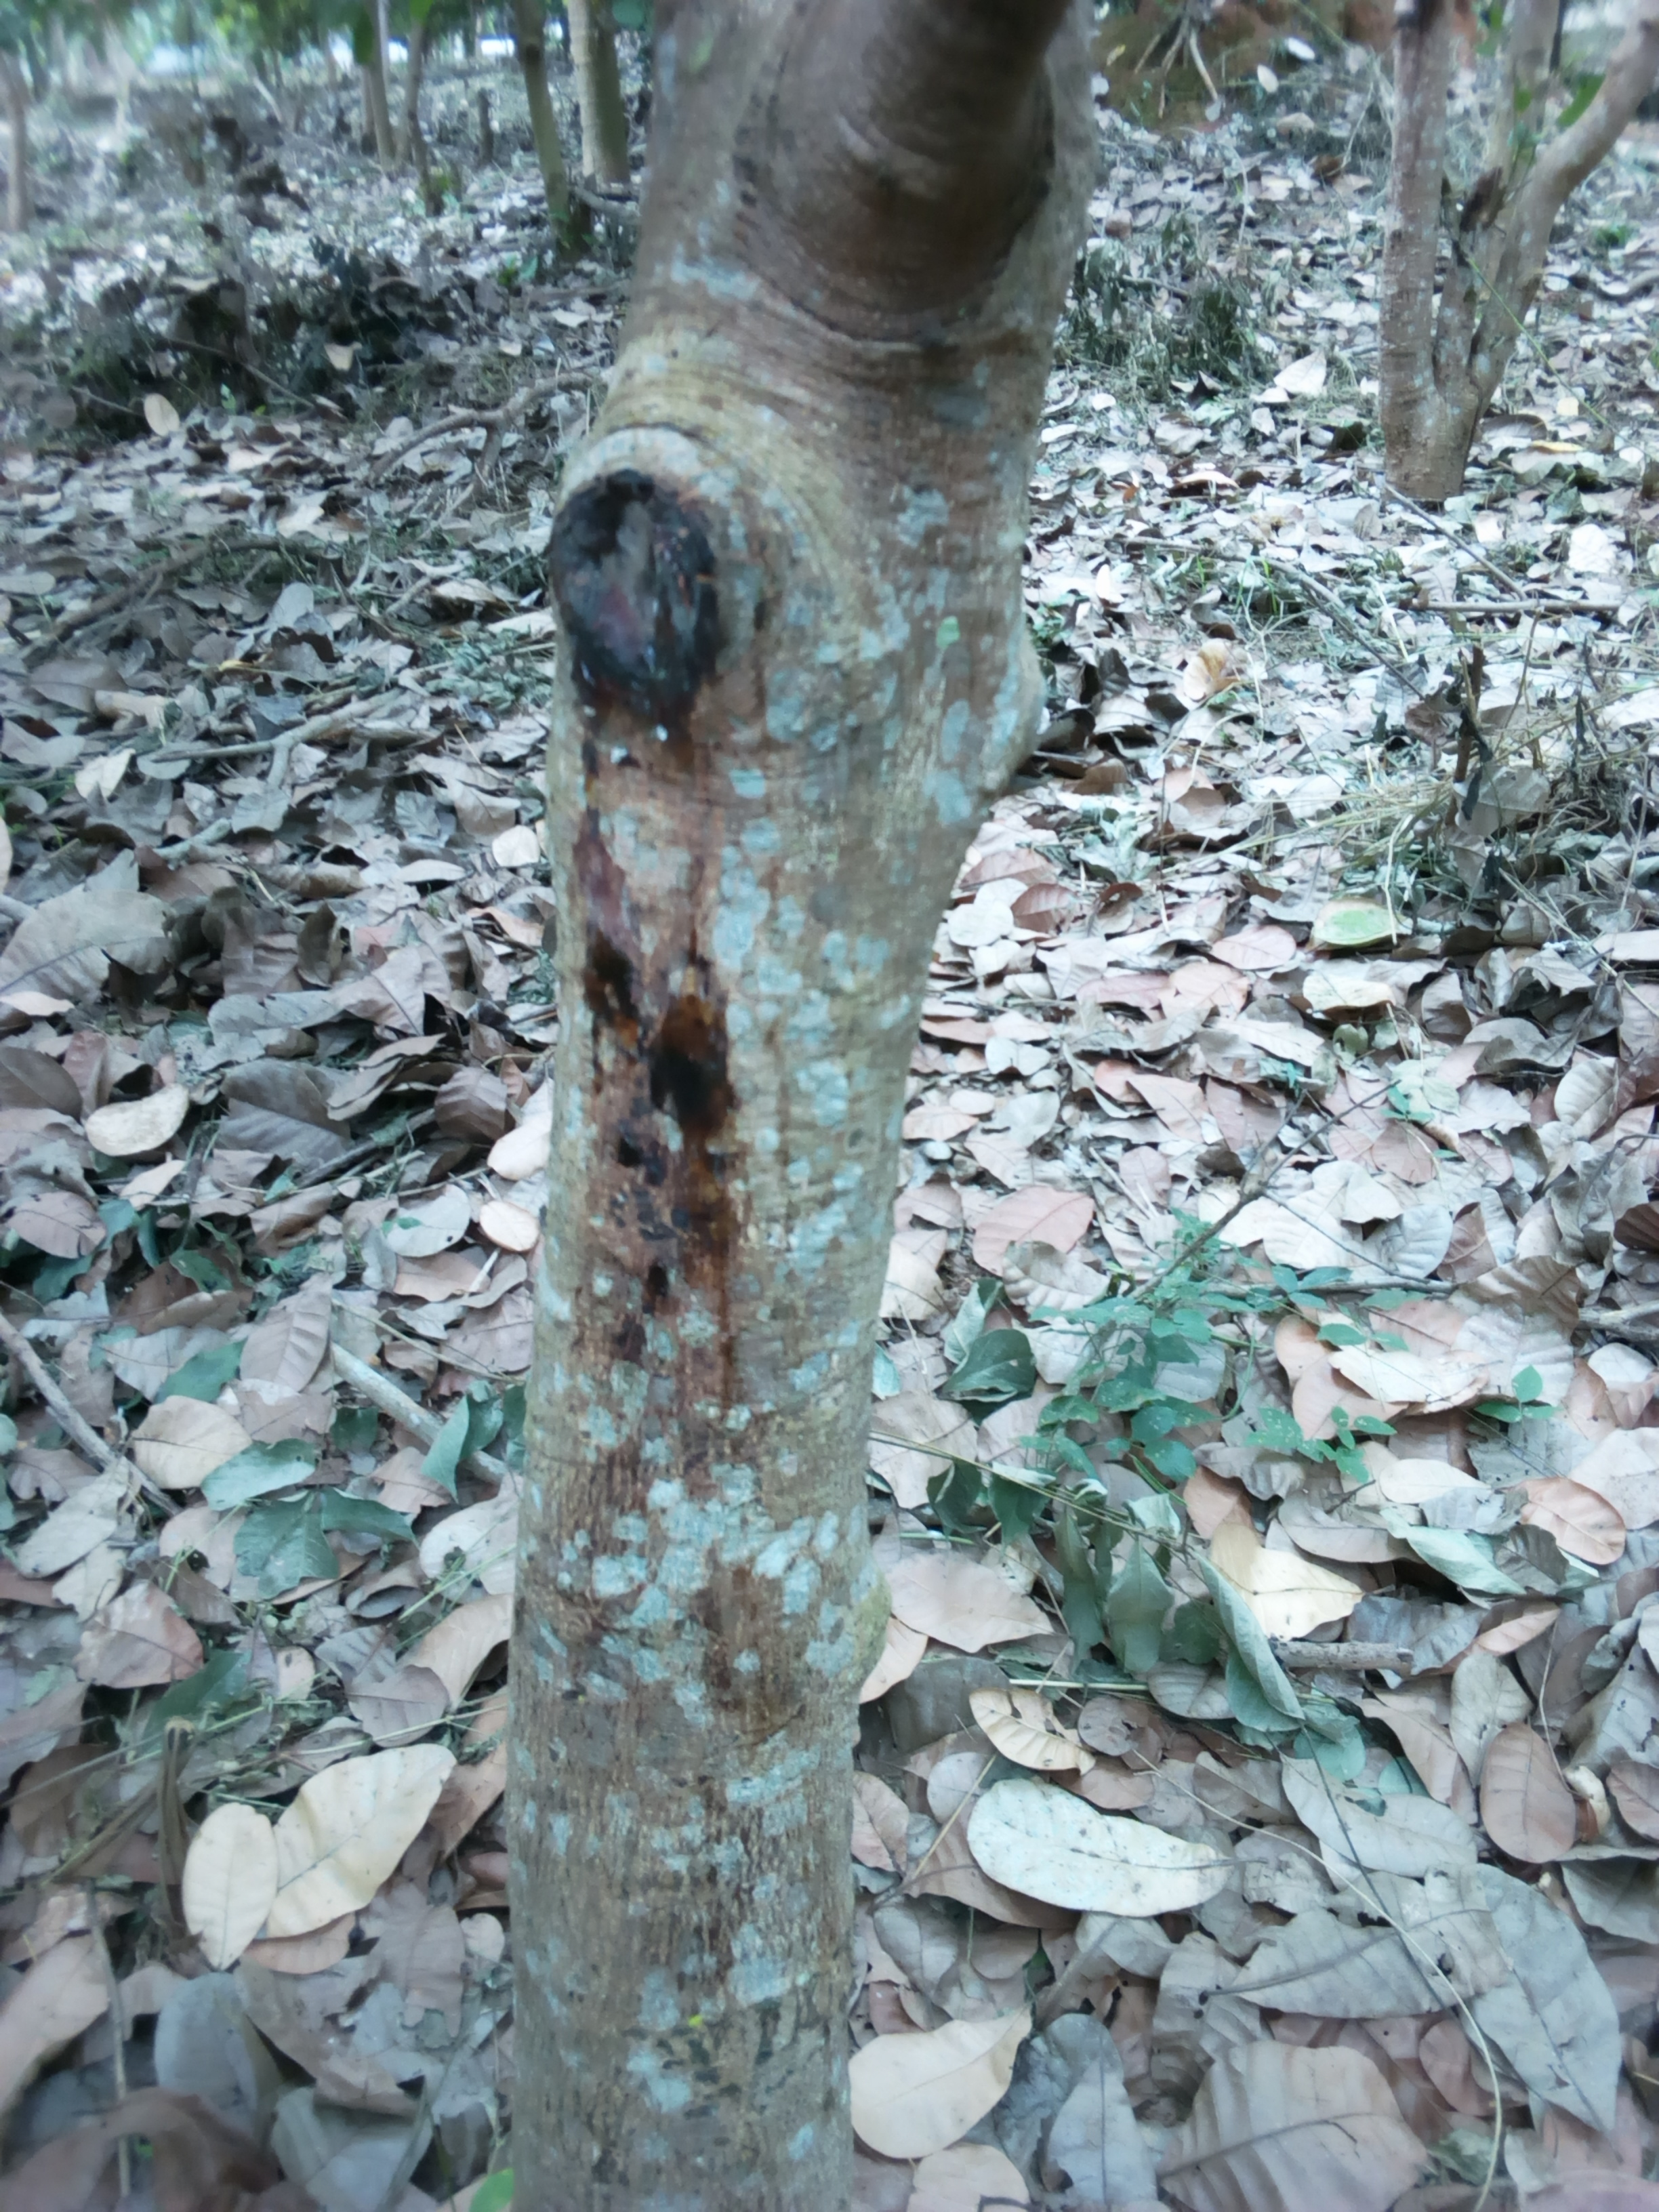ploceadorus ferrugineus: (467, 446, 880, 766)
